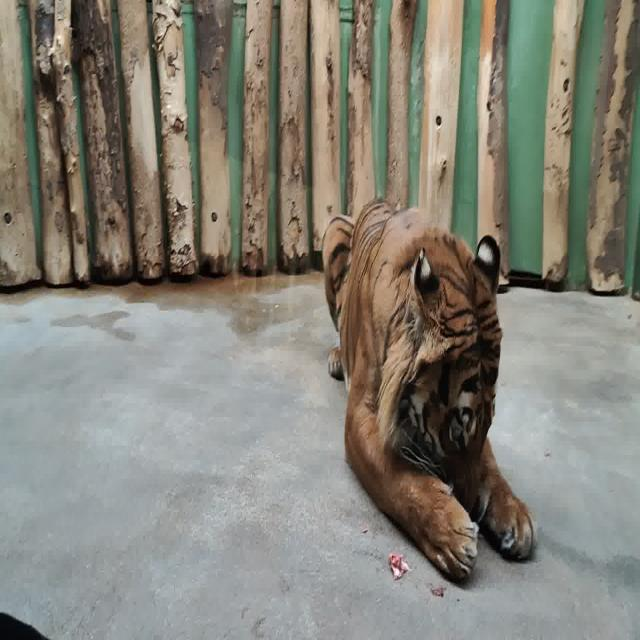tiger: (322, 197, 538, 584)
